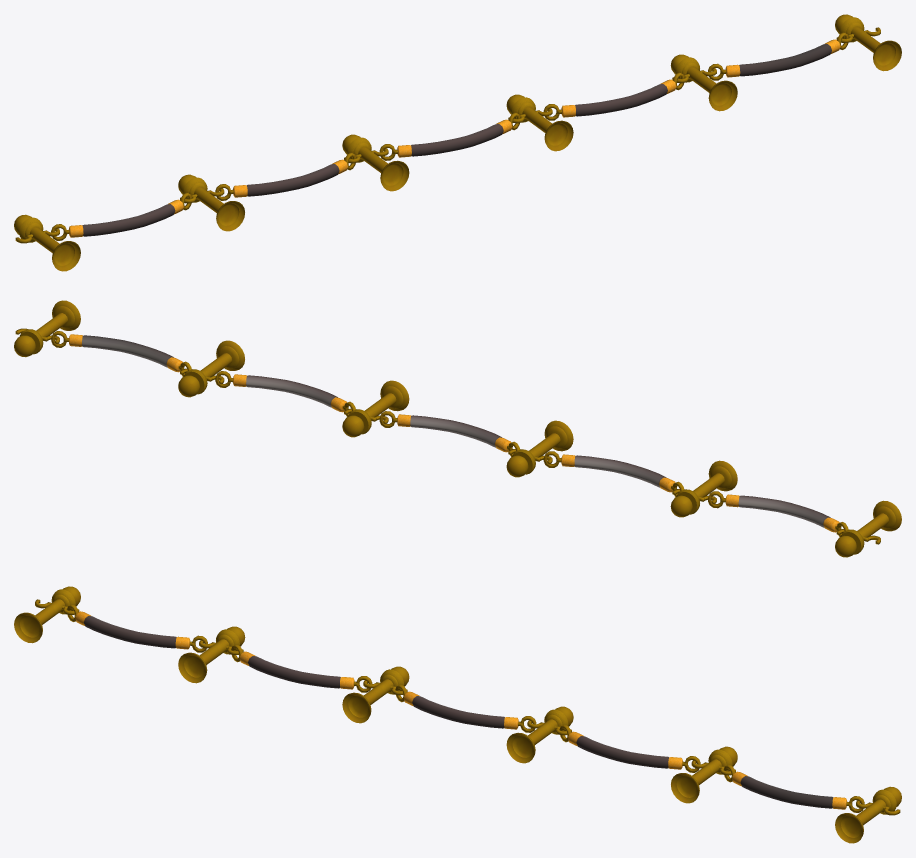
Rendered from FenceMovie.FBX.
3 views of the same model, one above another, from view 1: azimuth 30°, elevation 25°; view 2: azimuth 150°, elevation 25°; view 3: azimuth 330°, elevation 25° (orthographic).
Visible parts, largest first — view 1: pCube268_1__Frame00, pTorus10__Cloth00_AI, Mesh22__Gold01; view 2: pCube268_1__Frame00, pTorus10__Cloth00_AI, Mesh22__Gold01; view 3: pCube268_1__Frame00, pTorus10__Cloth00_AI, Mesh22__Gold01.
Boxes of the visible parts, x1,y1,x2,y2 form: pCube268_1__Frame00: [14, 14, 901, 271]; pTorus10__Cloth00_AI: [82, 44, 831, 236]; Mesh22__Gold01: [68, 39, 840, 237]; pCube268_1__Frame00: [14, 300, 901, 557]; pTorus10__Cloth00_AI: [82, 335, 830, 527]; Mesh22__Gold01: [69, 334, 839, 532]; pCube268_1__Frame00: [14, 586, 901, 843]; pTorus10__Cloth00_AI: [84, 616, 833, 808]; Mesh22__Gold01: [75, 611, 846, 809].
Bounding box in the file's own units: 1576 × 51.86 × 150.
